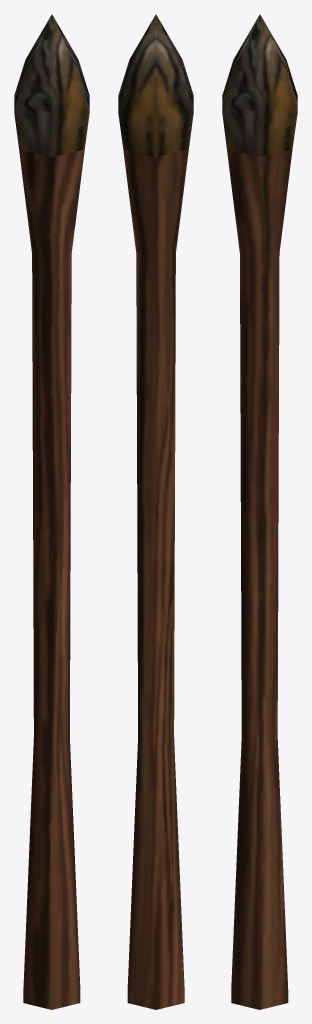
The model's file is INST_OH_TORCH.obj.
The picture shows the model from 3 angles, left to right: view 1: azimuth 30°, elevation 25°; view 2: azimuth 210°, elevation 25°; view 3: azimuth 270°, elevation 25°; orthographic projection.
Parts seen in each view (by area): view 1: Inst_OH_Torch_; view 2: Inst_OH_Torch_; view 3: Inst_OH_Torch_.
Boxes of the visible parts, x1,y1,x2,y2 form: Inst_OH_Torch_: [14, 14, 89, 1009]; Inst_OH_Torch_: [118, 14, 193, 1009]; Inst_OH_Torch_: [222, 14, 297, 1009].
Bounding box in the file's own units: 11.44 × 143 × 9.9.
